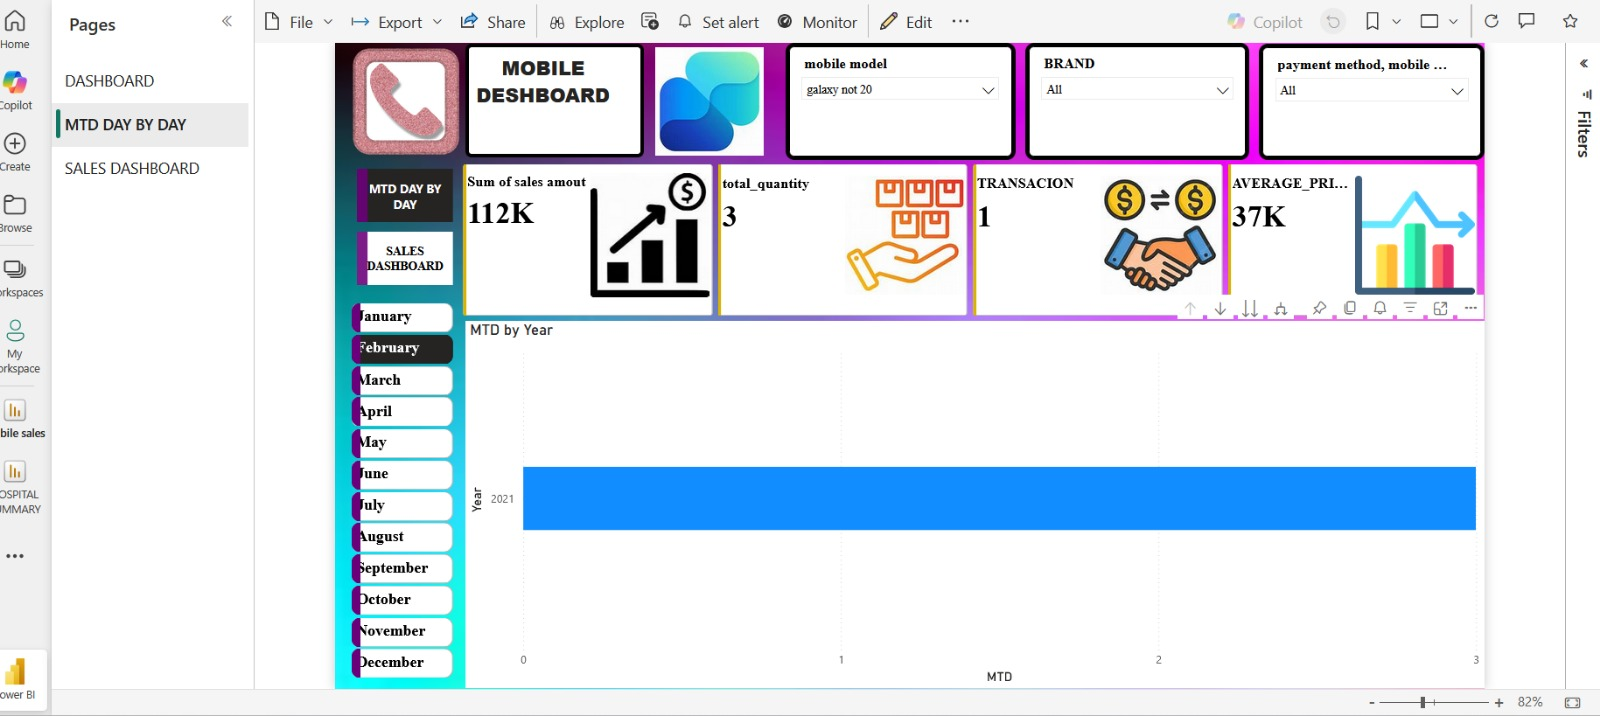

What the dashboard file says about the page in this screenshot:
{"tool":"powerbi","page":{"name":"MTD DAY BY DAY","canvas":[1280,720],"ordinal":1},"visuals":[{"type":"shape","box":[28.2,11,99.4,108],"z":0},{"type":"image","box":[0,1.2,158.3,128.8],"z":1000},{"type":"cardVisual","fields":{"Data":["Sum(mobile-sales-data.sales amout)","mobile-sales-data.total_quantity","mobile-sales-data.TRANSACION","mobile-sales-data.AVERAGE_PRIGE"]},"box":[137.4,130.1,1142.3,179.1],"z":2000},{"type":"slicer","fields":{"Values":["mobile-sales-data.mobile model"]},"box":[501.2,0,255.8,130.2],"z":3000},{"type":"slicer","fields":{"Values":["mobile-sales-data.BRAND"]},"box":[768.6,0,250,130.2],"z":4000},{"type":"slicer","fields":{"Values":["mobile-sales-data.payment method","mobile-sales-data.mobile model"]},"box":[1029.1,1.2,251.2,129.1],"z":5000},{"type":"image","box":[308.1,0,217.4,130.2],"z":6000},{"type":"textbox","box":[145.3,1.2,198.8,126.7],"z":7000},{"type":"barChart","fields":{"Category":["custom-calender.date.Variation.Date Hierarchy.Year","custom-calender.date.Variation.Date Hierarchy.Quarter","custom-calender.date.Variation.Date Hierarchy.Day"],"Y":["mobile-sales-data.MTD"]},"box":[144.8,309.2,1135,409.8],"z":8000},{"type":"advancedSlicerVisual","fields":{"Values":["custom-calender.date.Variation.Date Hierarchy.Month"]},"box":[13.5,284.7,123.9,435.6],"z":9000},{"type":"pageNavigator","box":[24.5,139.9,108,131.3],"z":10000}]}

Visuals, with their boxes on the page's 1280x720 design canvas (x1, y1, x2, y2). These are canvas units, not pixel positions in the 1600x716 screenshot, which may show the page scaled, cropped or inside an application window:
shape: crop(28, 11, 128, 119)
image: crop(0, 1, 158, 130)
cardVisual - Sum(mobile-sales-data.sales amout) x mobile-sales-data.total_quantity: crop(137, 130, 1280, 309)
slicer - mobile-sales-data.mobile model: crop(501, 0, 757, 130)
slicer - mobile-sales-data.BRAND: crop(769, 0, 1019, 130)
slicer - mobile-sales-data.payment method x mobile-sales-data.mobile model: crop(1029, 1, 1280, 130)
image: crop(308, 0, 526, 130)
textbox: crop(145, 1, 344, 128)
barChart - custom-calender.date.Variation.Date Hierarchy.Year x custom-calender.date.Variation.Date Hierarchy.Quarter: crop(145, 309, 1280, 719)
advancedSlicerVisual - custom-calender.date.Variation.Date Hierarchy.Month: crop(14, 285, 137, 720)
pageNavigator: crop(24, 140, 132, 271)
